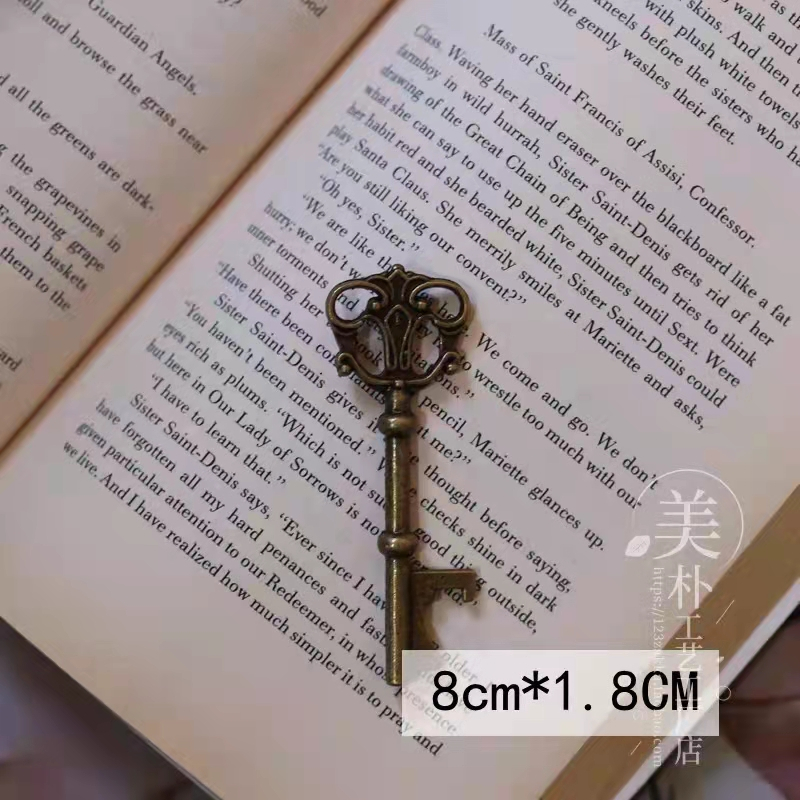key: (318, 255, 481, 686)
